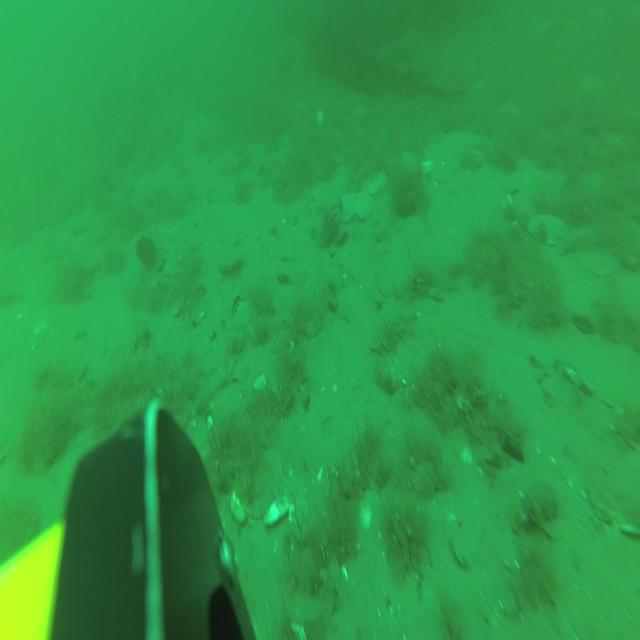scallop: (234, 444, 284, 521), (212, 385, 247, 429), (527, 209, 565, 245), (220, 247, 244, 271), (290, 498, 308, 528), (372, 166, 389, 194), (314, 107, 321, 123)
starfish: (340, 186, 376, 222)
